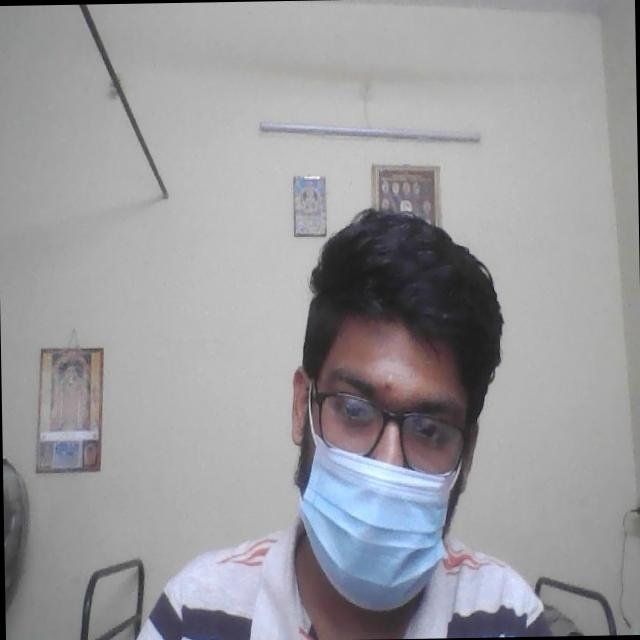Focused: (287, 318, 472, 595)
